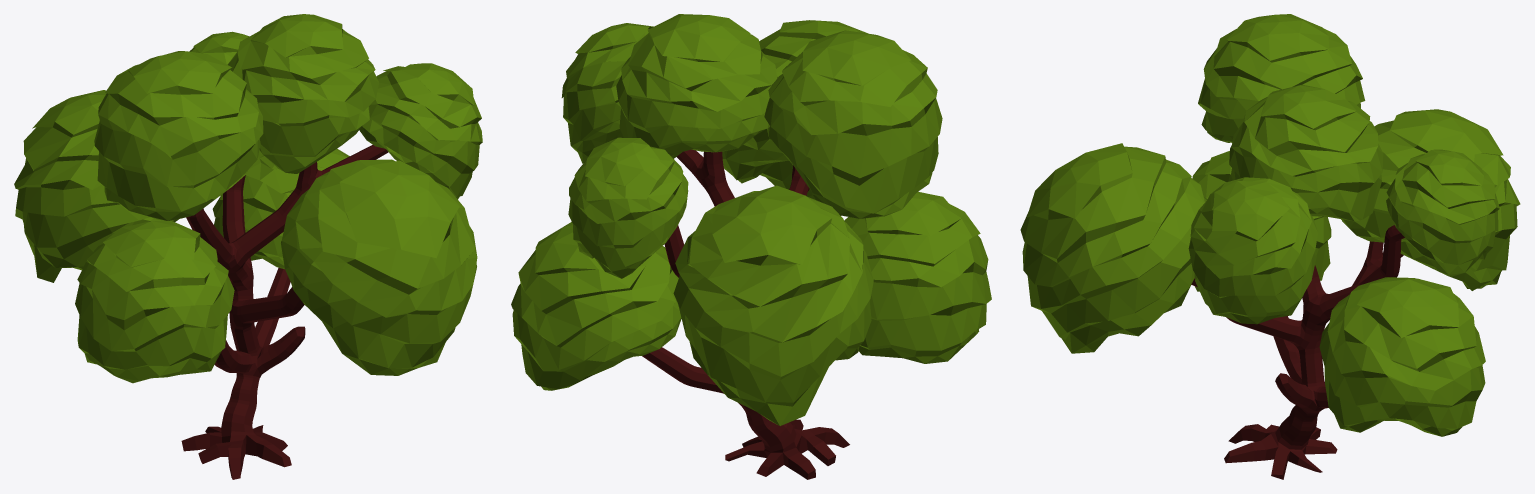
File: LushTree.fbx
3 views of the same model, side by side, from view 1: azimuth 30°, elevation 25°; view 2: azimuth 150°, elevation 25°; view 3: azimuth 270°, elevation 25° (orthographic). The views are drawn at different scales.
Visible parts, largest first — view 1: LushTree; view 2: LushTree; view 3: LushTree.
Part boxes in pixels (bbox=[...]): LushTree: bbox=[14, 14, 482, 479]; LushTree: bbox=[511, 14, 991, 479]; LushTree: bbox=[1020, 14, 1520, 479].
Bounding box in the file's own units: 9.28 × 9.51 × 10.53.
